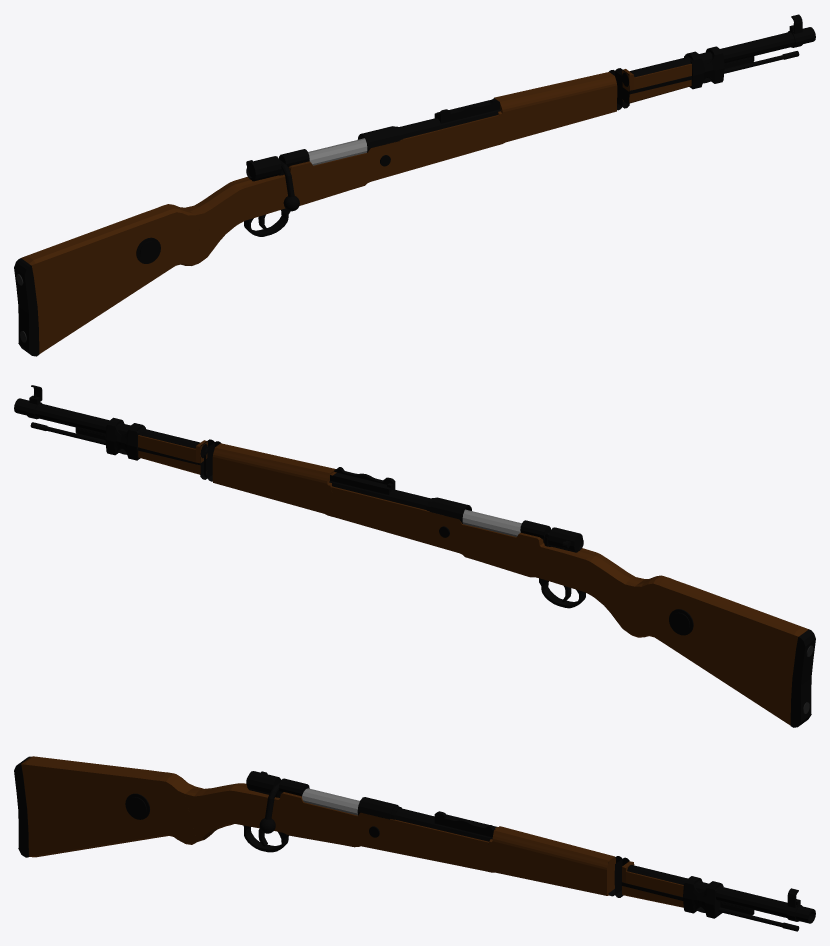
File: kar_98.fbx
The picture shows the model from 3 angles, top to bottom: view 1: azimuth 30°, elevation 25°; view 2: azimuth 150°, elevation 25°; view 3: azimuth 330°, elevation 25°; orthographic projection.
Visible parts, largest first — view 1: Cylinder.018; view 2: Cylinder.018; view 3: Cylinder.018.
Part boxes in pixels (x1,y1,x2,y2): Cylinder.018: [14, 14, 815, 356]; Cylinder.018: [14, 385, 815, 727]; Cylinder.018: [14, 756, 815, 931].
Size of the model in its own units: 2035 by 370 by 109.
